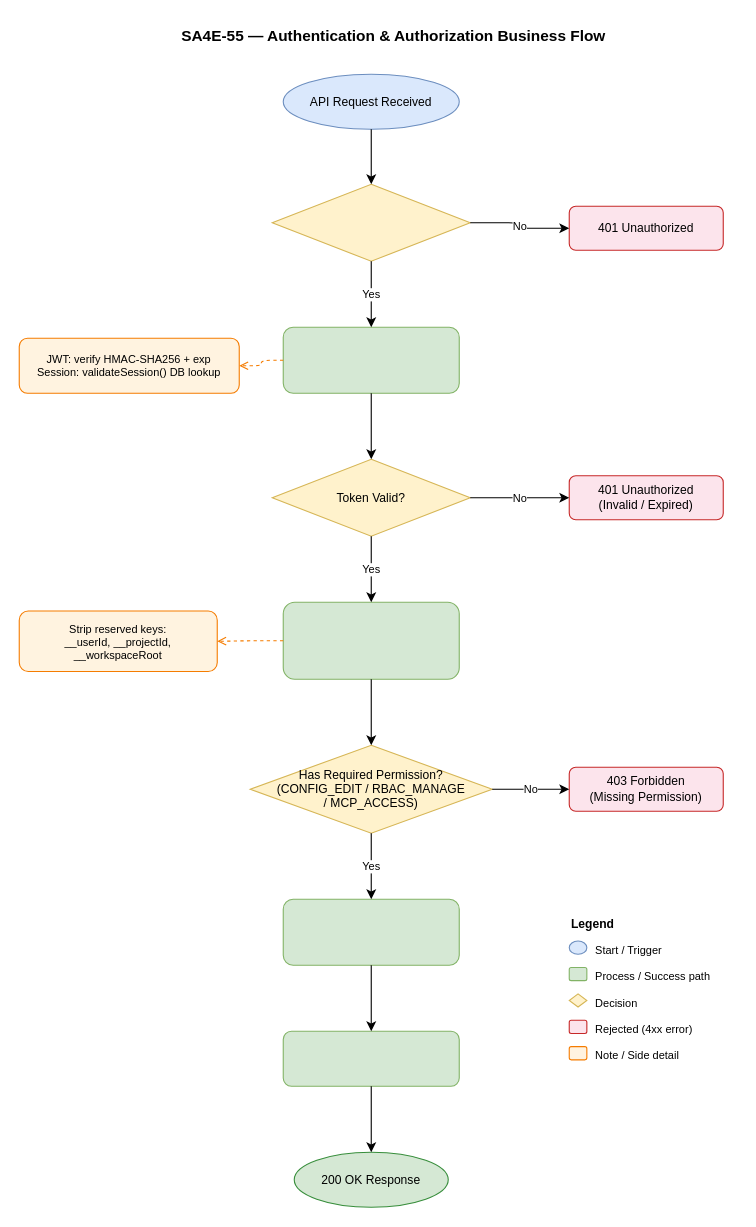
Image size: 756x1227. Some labels were removed from this diagram. The shapes that lost their labels are listed below. From the top down, each one's centre as x and y in pixels, then its label:
(x=370, y=222): Has Bearer Token?
(x=370, y=359): Validate Token (Session or JWT)
(x=370, y=640): Extract userId from Verified Token (strip X-User-Id spoofing)
(x=370, y=931): Apply Data Scope Filter (userId-scoped results)
(x=370, y=1058): Execute Operation
